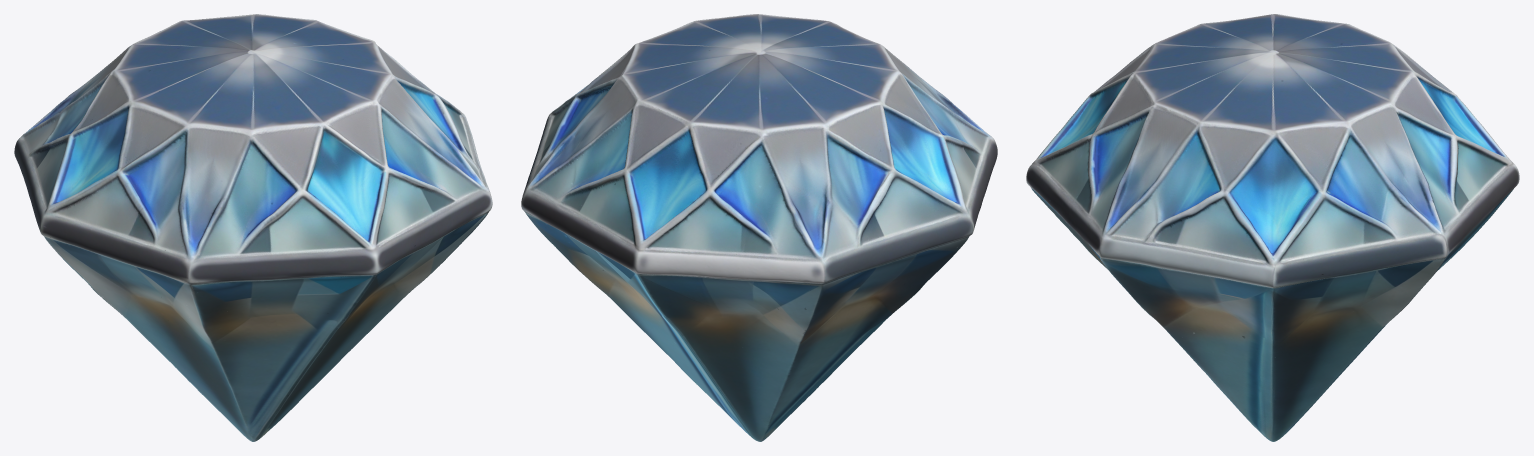
The model's file is Meshy_AI_Azure_Diamond_0805165101_texture.fbx.
3 renders of one model, left to right at view 1: azimuth 30°, elevation 25°; view 2: azimuth 150°, elevation 25°; view 3: azimuth 270°, elevation 25°, orthographic.
Parts seen in each view (by area): view 1: Mesh_0; view 2: Mesh_0; view 3: Mesh_0.
Boxes of the visible parts, x1=… form: Mesh_0: x1=14, y1=14, x2=492, y2=441; Mesh_0: x1=521, y1=14, x2=997, y2=441; Mesh_0: x1=1026, y1=14, x2=1519, y2=441.
Bounding box in the file's own units: 199 × 174 × 200.
Materials: 1 (1 with a texture image).
